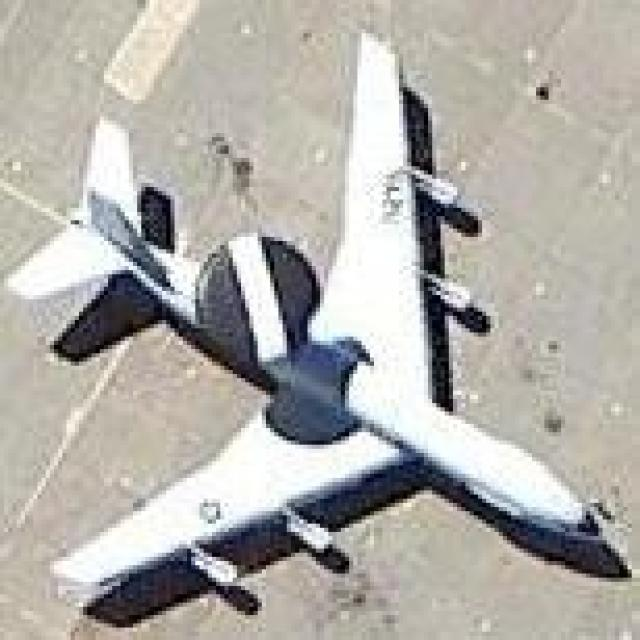E-3_TopDown: (0, 25, 632, 627)
